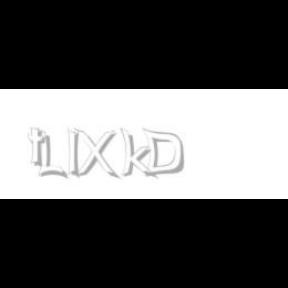D: (142, 128, 184, 178)
L: (37, 128, 65, 180)
X: (73, 128, 117, 180)
k: (119, 128, 157, 180)
l: (67, 128, 83, 180)
t: (28, 128, 50, 168)
